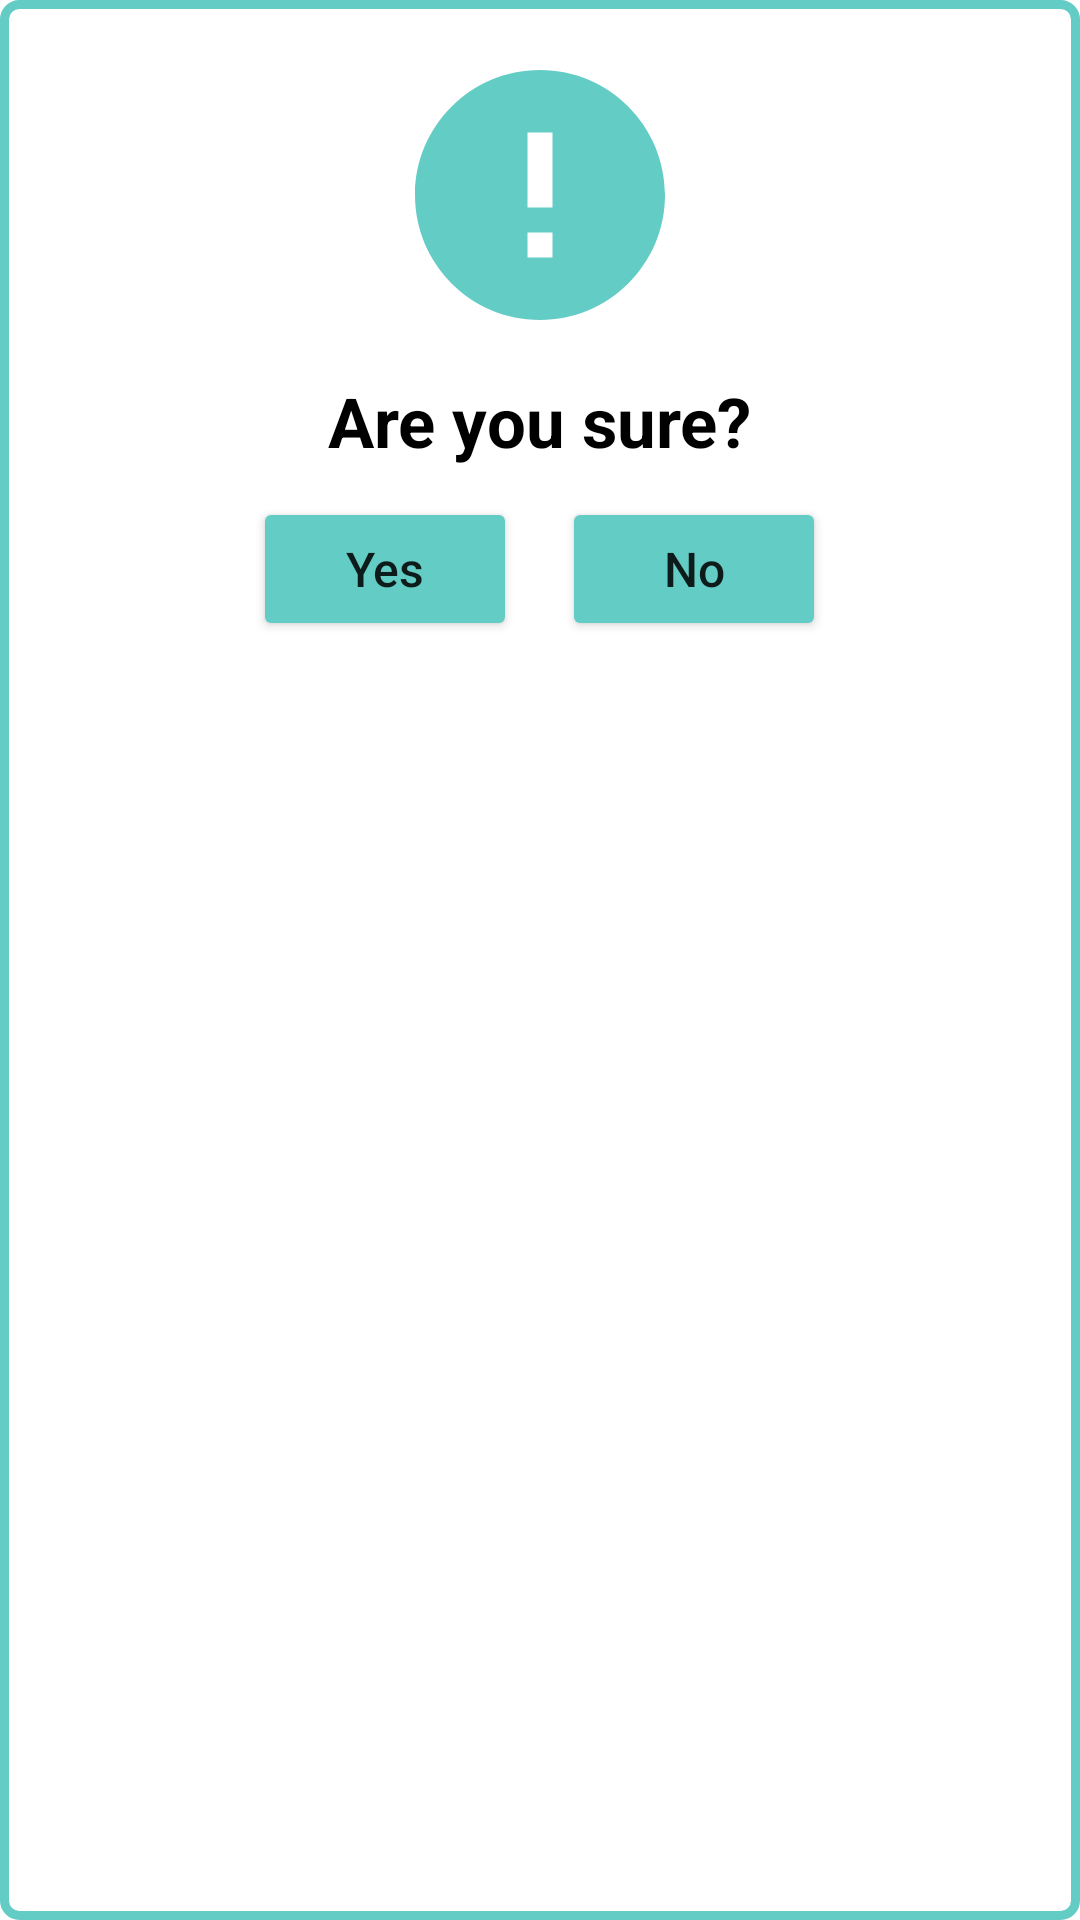

Where to tap for icons on this 1080 x 1920 app screen, as [x,y]:
warning: [540,195]
